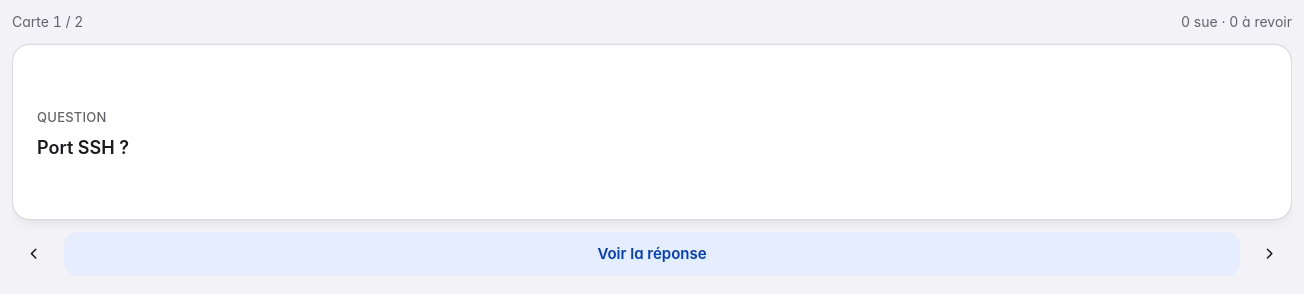
Test: Quiz et flashcards du studio › les flashcards se retournent et comptent ce qui est su
Click the button "Voir la réponse" at (652, 254), box [64,232,1240,276]
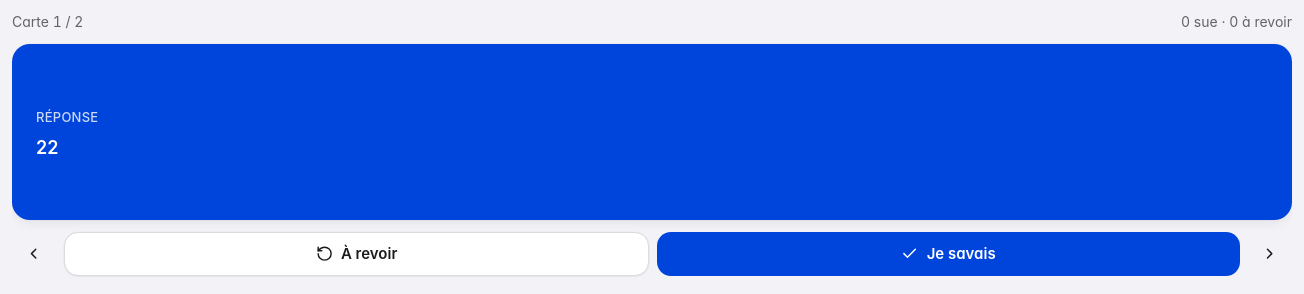
expect the text "22" is shown: met, box [36,137,58,158]
Click the button "Je savais" at (948, 254), box [657,232,1240,276]
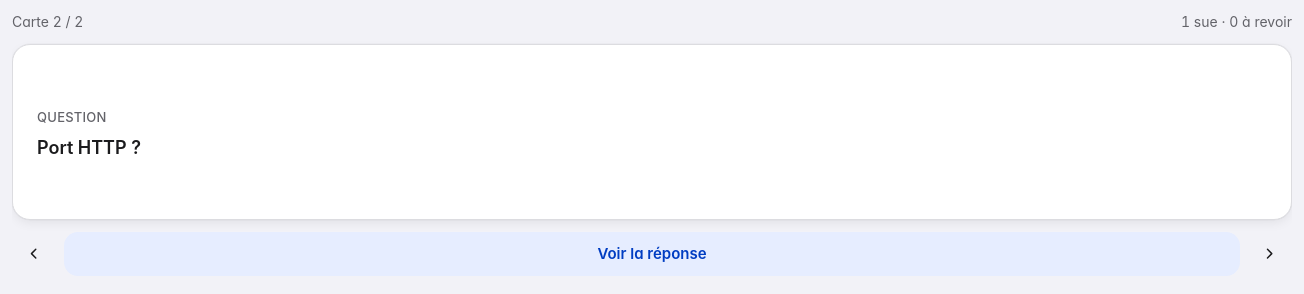
expect the text "Port HTTP ?" is shown: met, box [37,137,141,158]
expect the text "1 sue · 0 à revoir" is shown: met, box [1181,12,1292,32]
